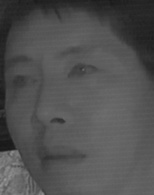eye: (66, 60, 100, 83), (8, 72, 42, 94)
mouth: (35, 143, 86, 174)
